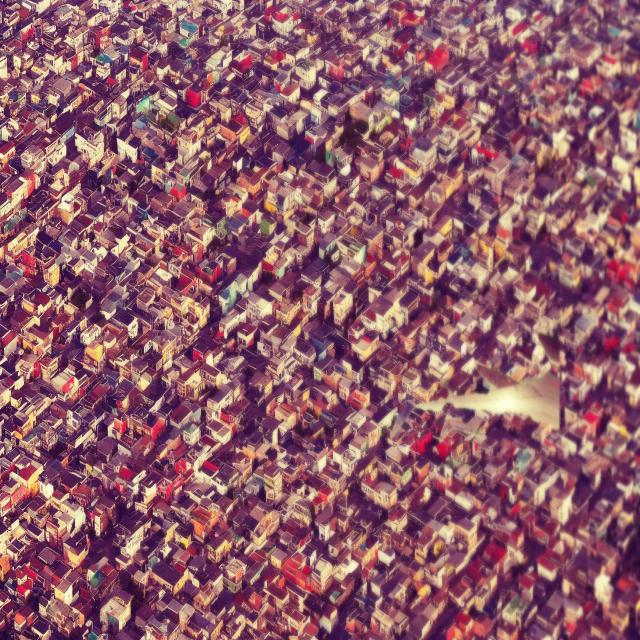airplane: (415, 374, 561, 441)
